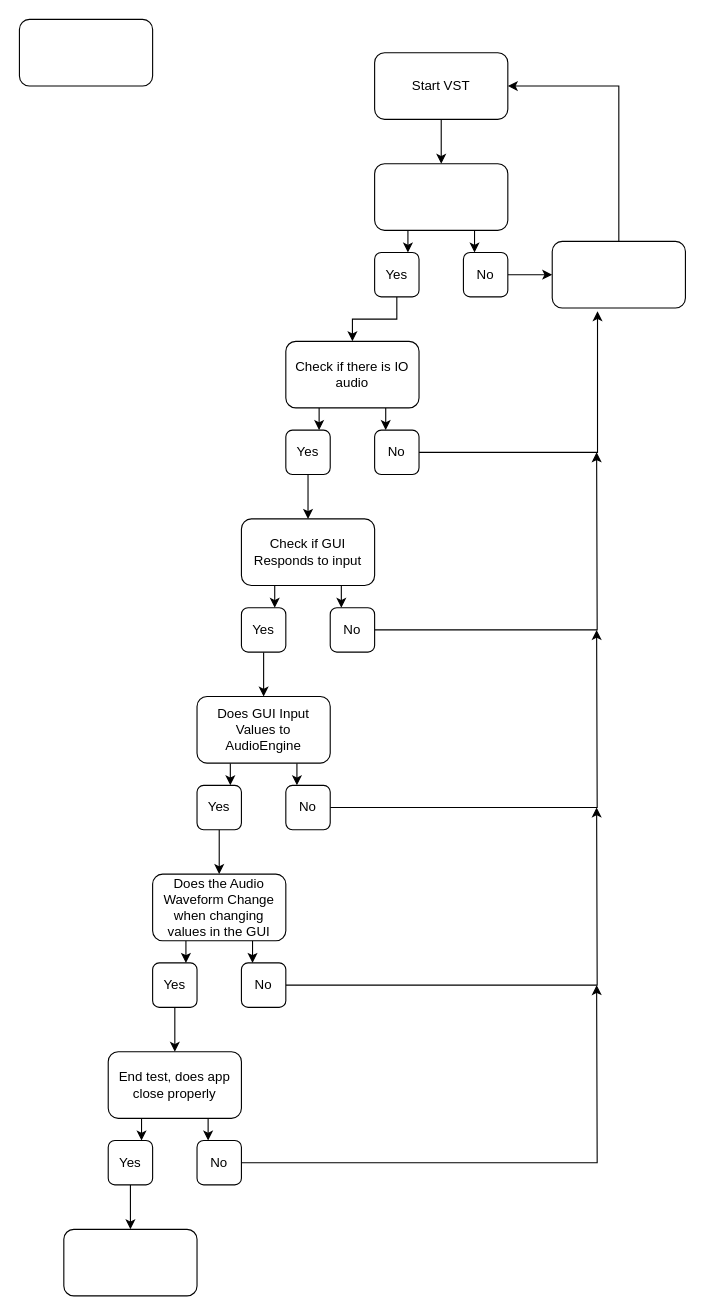
Image size: 705x1315. Some labels were removed from this diagram. The box of each missing label's shape, as (x1, y1, x2, y2) in pixels:
Internal testing: (18, 18, 153, 86)
It starts: (374, 163, 508, 230)
Test is Success: (63, 1228, 197, 1296)
Troubleshoot and fix: (551, 240, 685, 308)
